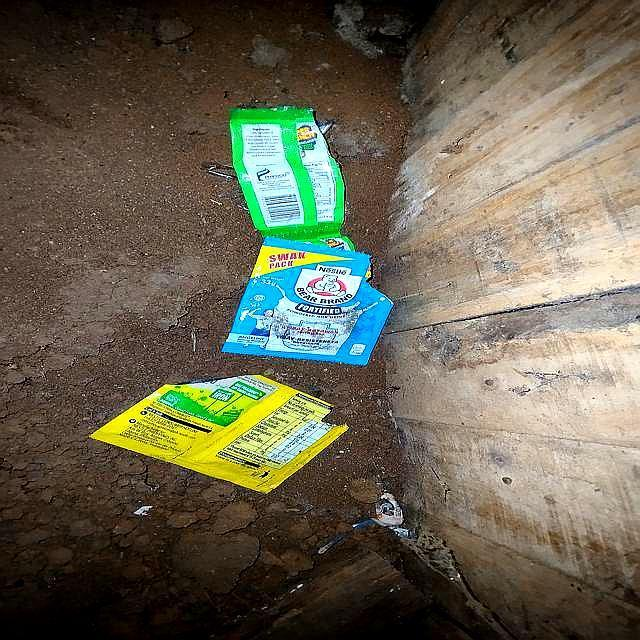Non-biodegradable: (84, 357, 364, 500), (219, 232, 414, 371), (219, 108, 361, 256)
